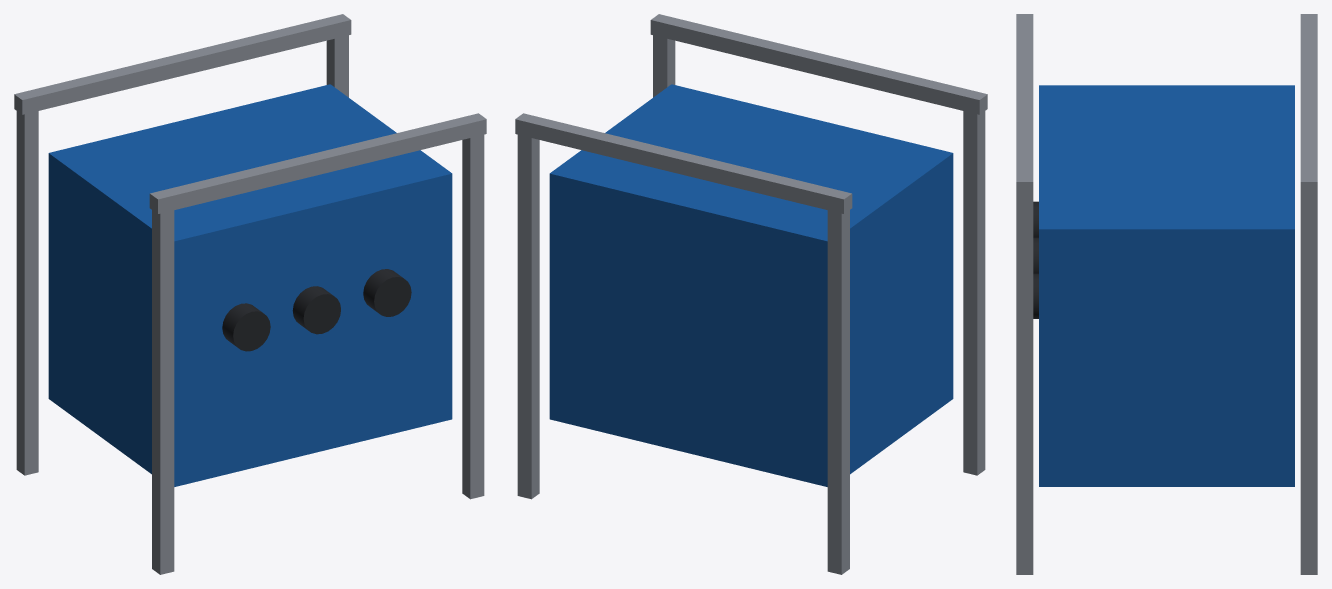
Rendered from shutter-converter.glb.
3 views of the same model, side by side, from view 1: azimuth 30°, elevation 25°; view 2: azimuth 150°, elevation 25°; view 3: azimuth 270°, elevation 25° (orthographic). The views are drawn at different scales.
Bounding box in the file's own units: 0.7 × 0.765 × 0.53.
